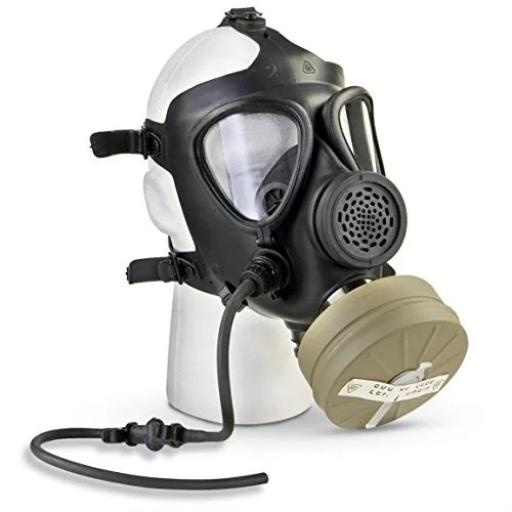mask: (160, 67, 491, 416)
